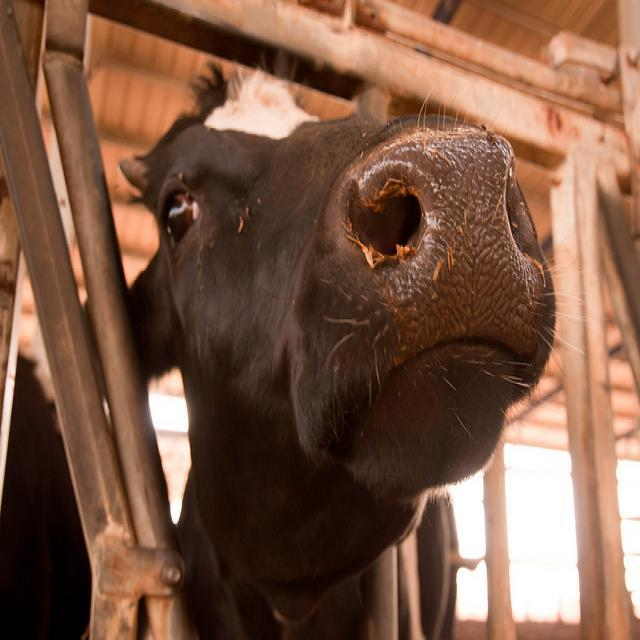cow: (119, 83, 553, 628)
